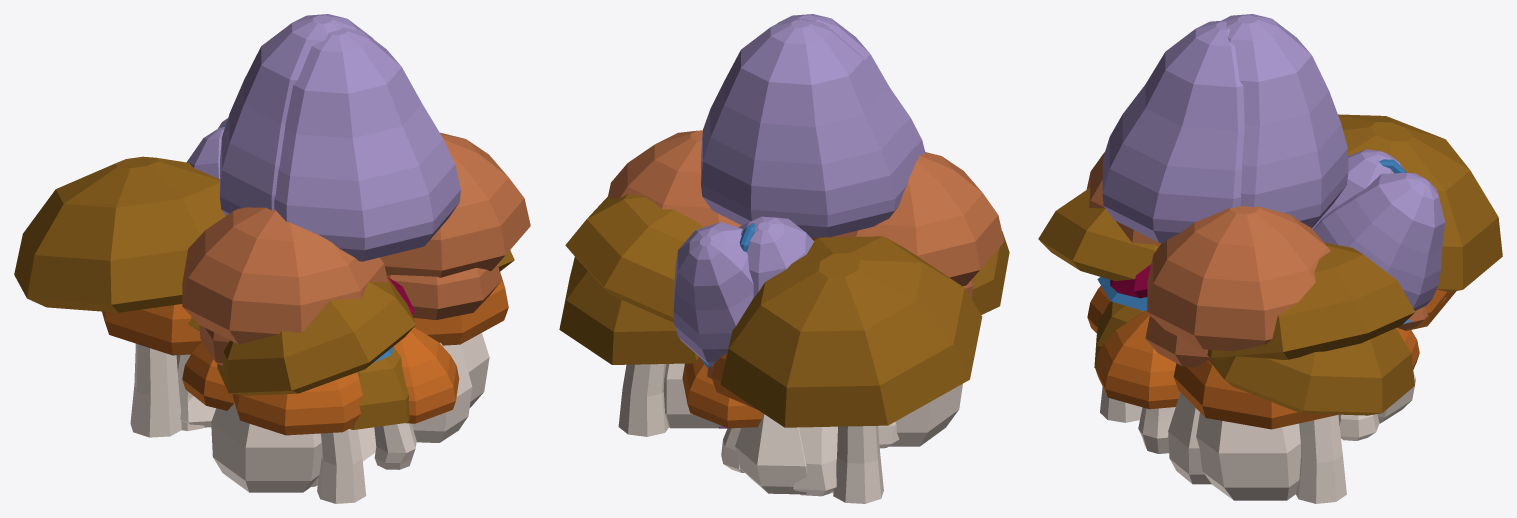
The model's file is Mushrooms.fbx.
3 views of the same model, side by side, from view 1: azimuth 30°, elevation 25°; view 2: azimuth 150°, elevation 25°; view 3: azimuth 270°, elevation 25° (orthographic). The views are drawn at different scales.
Visible parts, largest first — view 1: Onirique_2, Chêne-ombré, Fongi-Oberla_2, Chêne-ombré_2, Embercloche, Fongi-Oberla, Onirique, Embercloche_2; view 2: Chêne-ombré, Onirique, Fongi-Oberla_2, Chêne-ombré_2, Fongi-Oberla, Onirique_2, Embercloche_2, Embercloche; view 3: Onirique, Fongi-Oberla, Chêne-ombré, Onirique_2, Chêne-ombré_2, Embercloche_2, Fongi-Oberla_2, Embercloche, Sangrelune, Rêvedoré.
Part boxes in pixels (bbox=[...]): Onirique_2: bbox=[187, 27, 460, 461]; Chêne-ombré: bbox=[14, 156, 409, 437]; Fongi-Oberla_2: bbox=[182, 207, 501, 492]; Chêne-ombré_2: bbox=[155, 250, 514, 503]; Embercloche: bbox=[102, 272, 508, 486]; Fongi-Oberla: bbox=[199, 132, 530, 407]; Onirique: bbox=[218, 14, 373, 215]; Embercloche_2: bbox=[182, 327, 459, 469]; Chêne-ombré: bbox=[565, 194, 982, 503]; Onirique: bbox=[673, 19, 918, 366]; Fongi-Oberla_2: bbox=[707, 152, 1004, 494]; Chêne-ombré_2: bbox=[559, 231, 1009, 493]; Fongi-Oberla: bbox=[608, 130, 973, 428]; Onirique_2: bbox=[738, 14, 925, 297]; Embercloche_2: bbox=[682, 357, 899, 472]; Embercloche: bbox=[711, 353, 837, 496]; Onirique: bbox=[1220, 14, 1445, 310]; Fongi-Oberla: bbox=[1147, 206, 1330, 500]; Chêne-ombré: bbox=[1094, 114, 1502, 503]; Onirique_2: bbox=[1102, 21, 1402, 242]; Chêne-ombré_2: bbox=[1038, 188, 1414, 422]; Embercloche_2: bbox=[1095, 310, 1419, 453]; Fongi-Oberla_2: bbox=[1086, 152, 1446, 484]; Embercloche: bbox=[1087, 286, 1456, 429]; Sangrelune: bbox=[1110, 264, 1150, 298]; Rêvedoré: bbox=[1097, 277, 1411, 324].
Size of the model in its own units: 56.45 by 50.87 by 51.59.
